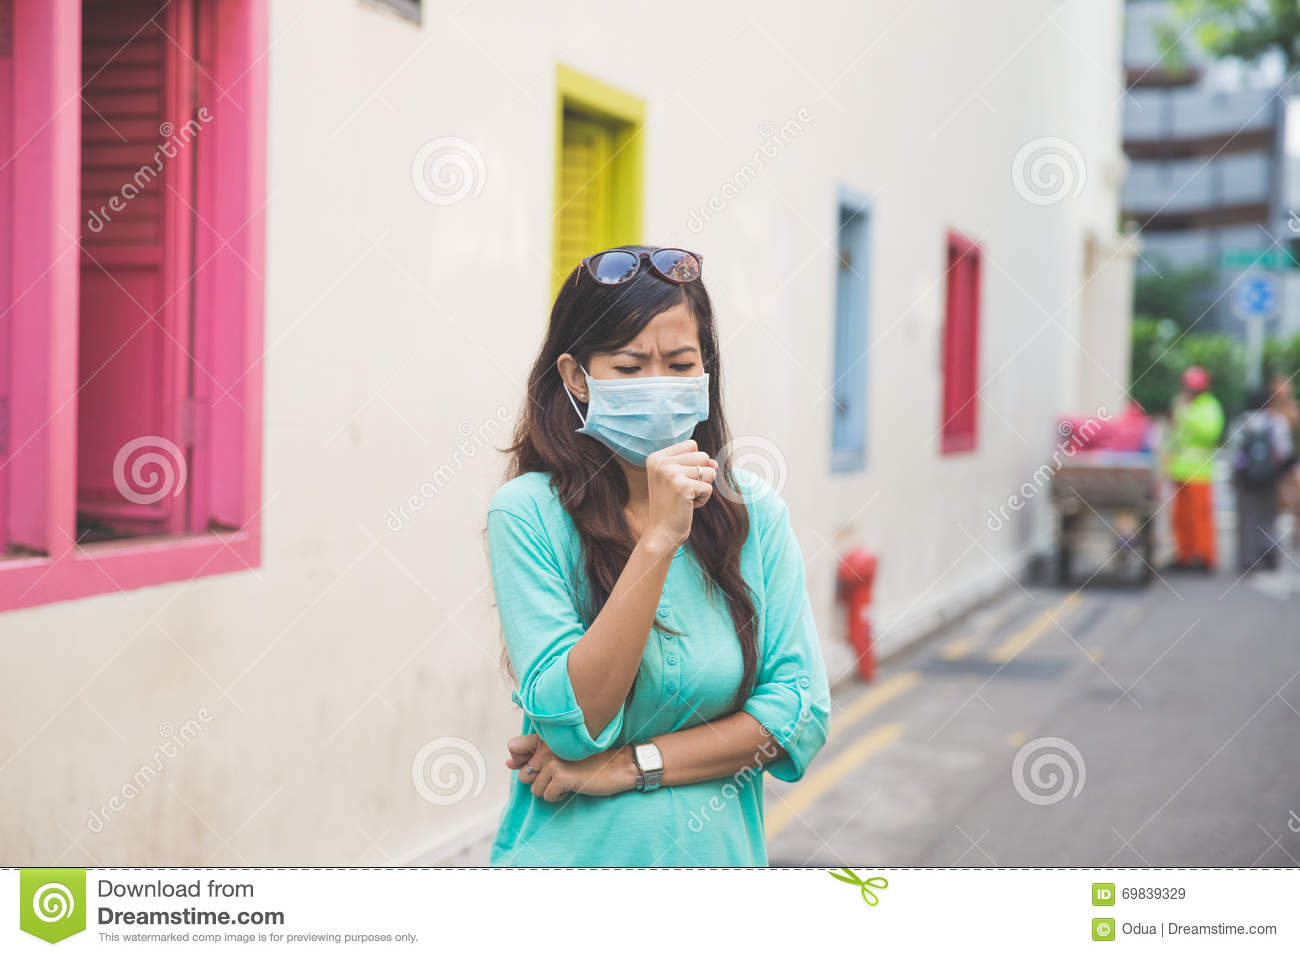mask: (583, 378, 716, 465)
